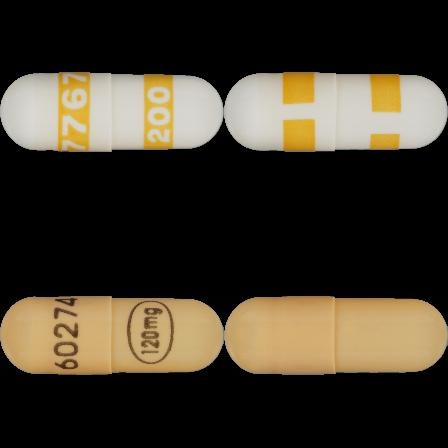0591-2825: (0, 0, 224, 224)
